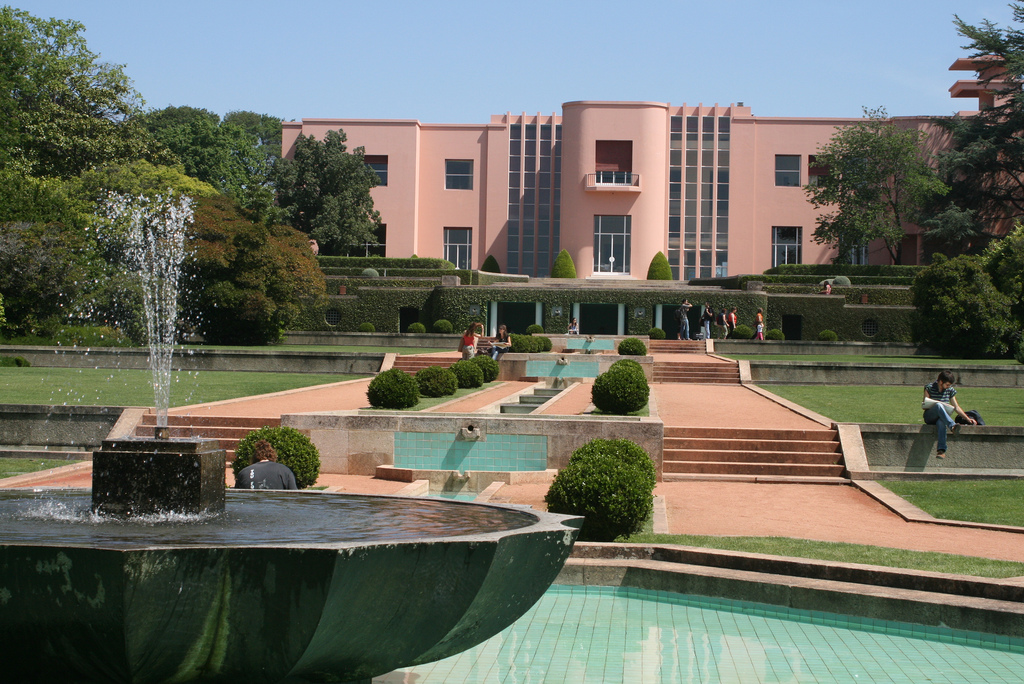serralves: (285, 49, 1023, 279)
